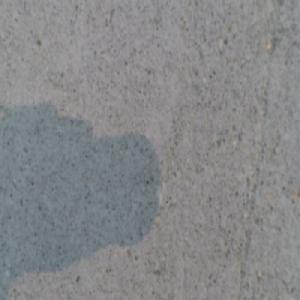Washer: (157, 290, 179, 299)
